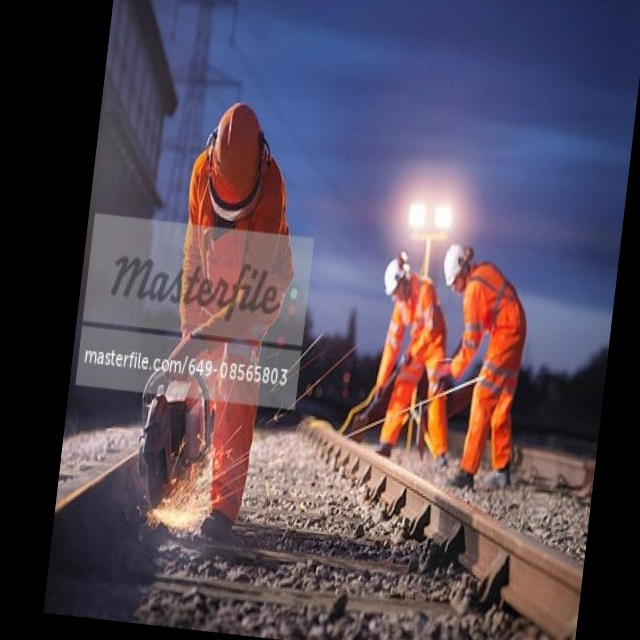Con_Casco: (201, 97, 268, 222), (440, 236, 473, 290)
Con_Chaleco: (459, 258, 533, 377)
